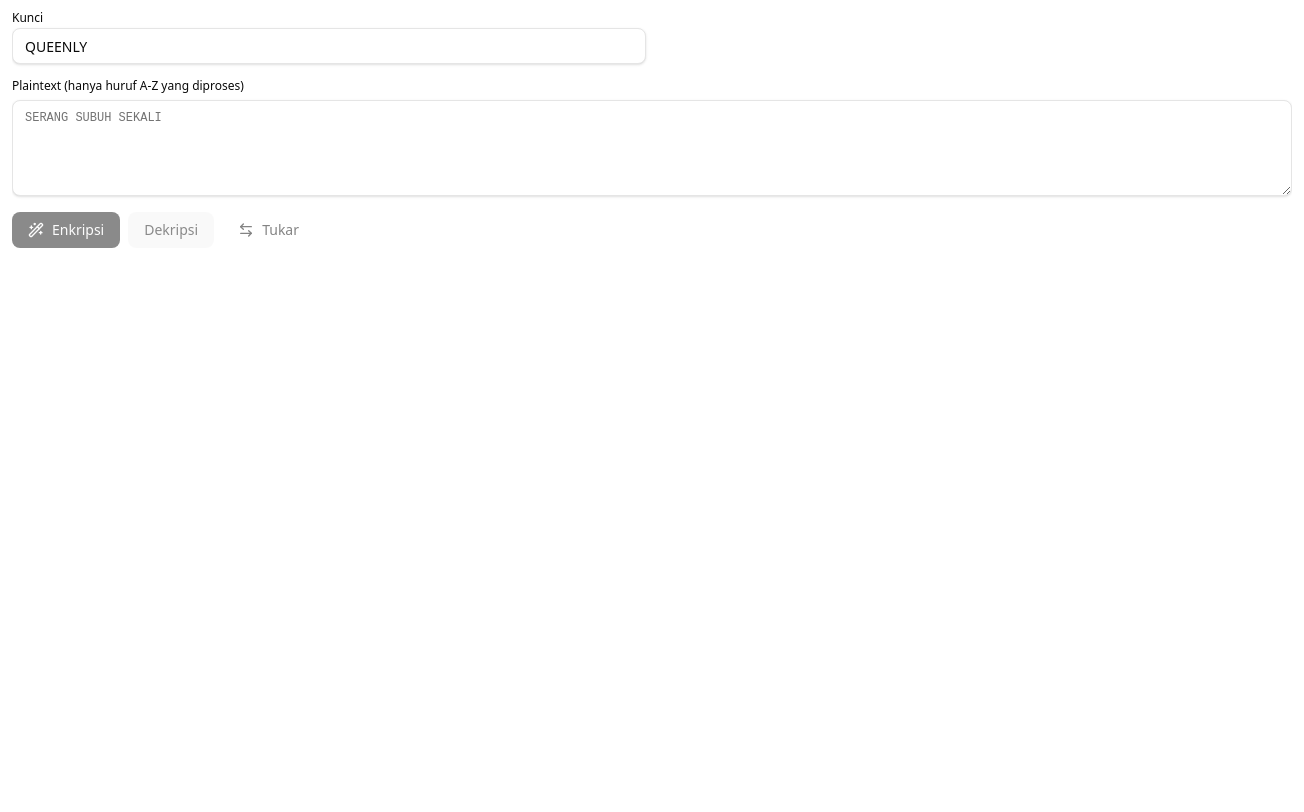
Test: TextPanel — enkripsi/dekripsi teks lewat GUI › Auto-Key Vigenere: ATTACKATDAWN + QUEENLY -> QNXEPVYTWTWP (vektor buku)
Type "ATTACKATDAWN" into the text box labelled "Plaintext (hanya huruf A-Z yang diproses)" at {"x": 652, "y": 148}, box x1=12 y1=100 x2=1292 y2=196
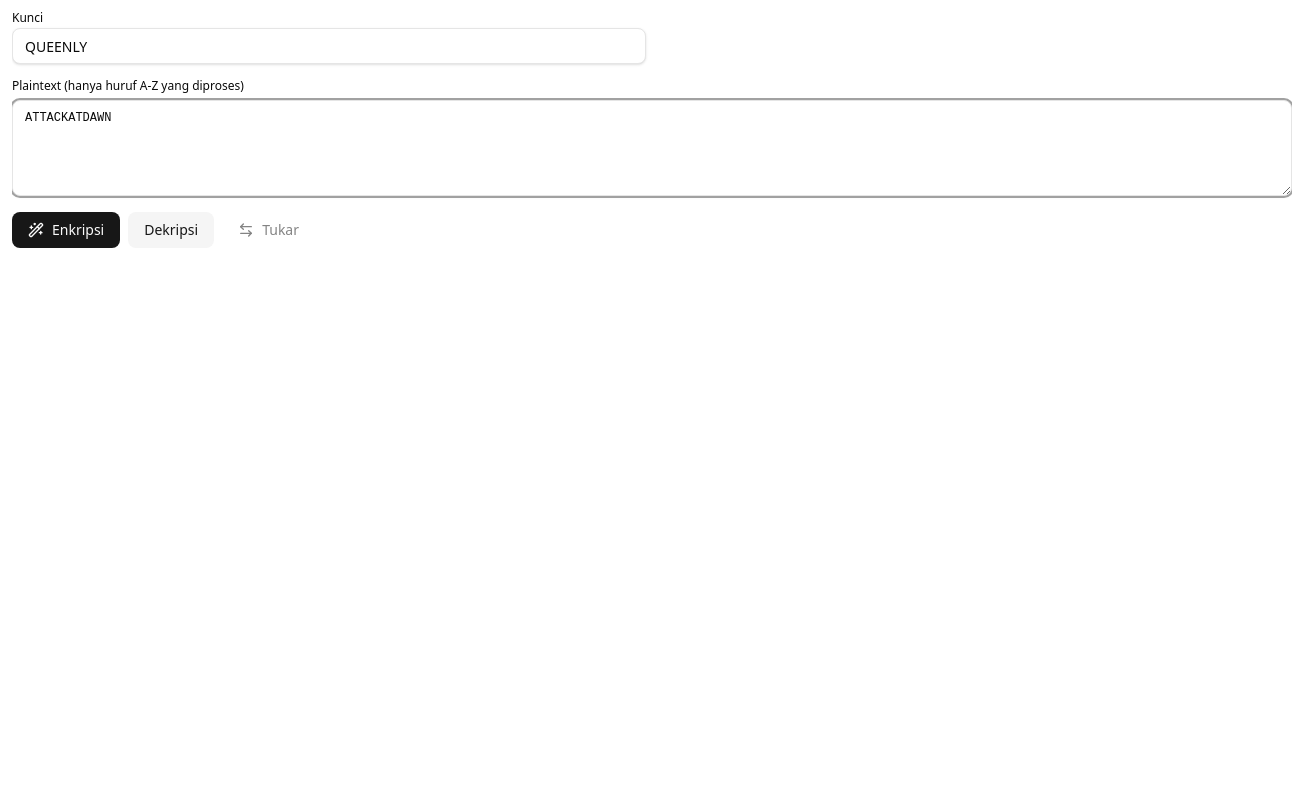
Click the button "Enkripsi" at {"x": 66, "y": 230}, box x1=12 y1=212 x2=120 y2=248
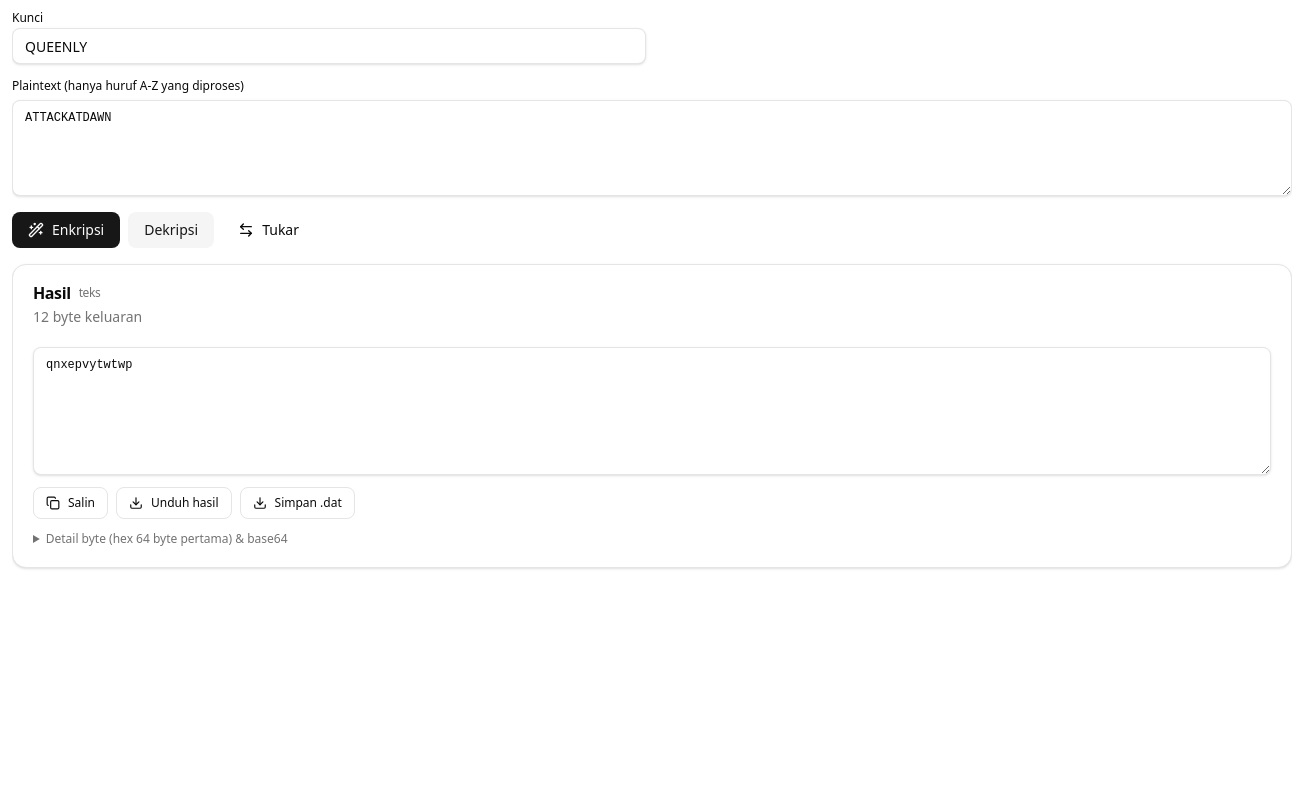
Result: the text box with test id "result-output" holds "qnxepvytwtwp" at x1=33 y1=347 x2=1271 y2=475
